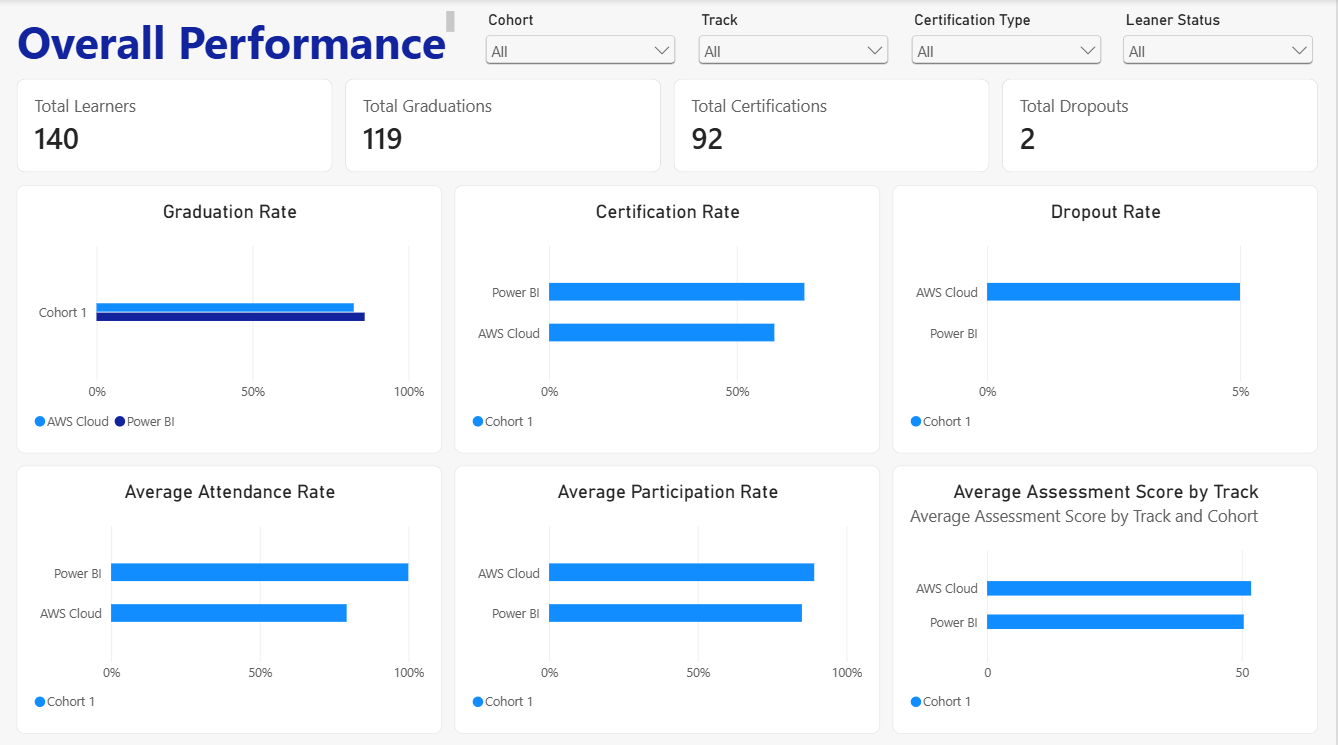

Layout of this report page (visuals, bound fields, positions):
{"tool":"powerbi","page":{"name":"Overall Performance Metrics","canvas":[1280,720],"ordinal":0},"visuals":[{"type":"textbox","box":[16,12,420,48],"z":0},{"type":"textbox","box":[10,290,280,280],"z":1000},{"type":"clusteredBarChart","title":"Graduation Rate","fields":{"Category":["DimLearner.Cohort"],"Series":["DimLearner.Track"],"Y":["DAX_Measures.Graduation Rate"]},"box":[16,178,408,257],"z":2000},{"type":"clusteredBarChart","title":"Certification Rate","fields":{"Category":["DimLearner.Track"],"Series":["DimLearner.Cohort"],"Y":["DAX_Measures.Certification Rate"]},"box":[436,178,408,257],"z":3000},{"type":"clusteredBarChart","title":"Dropout Rate","fields":{"Category":["DimLearner.Track"],"Series":["DimLearner.Cohort"],"Y":["DAX_Measures.Dropout Rate"]},"box":[856,178,408,257],"z":4000},{"type":"clusteredBarChart","title":"Average Attendance Rate","fields":{"Category":["DimLearner.Track"],"Series":["DimLearner.Cohort"],"Y":["DAX_Measures.Average Attendance Rate per Learner"]},"box":[16,447,408,257],"z":5000},{"type":"clusteredBarChart","title":"Average Participation Rate","fields":{"Category":["DimLearner.Track"],"Series":["DimLearner.Cohort"],"Y":["DAX_Measures.Average Participation Rate per Learner"]},"box":[436,447,408,257],"z":6000},{"type":"clusteredBarChart","title":"Average Assessment Score by Track","fields":{"Category":["DimLearner.Track"],"Series":["DimLearner.Cohort"],"Y":["DAX_Measures.Average Assessment Score"]},"box":[856,447,408,257],"z":7000},{"type":"slicer","fields":{"Values":["DimLearner.Cohort"]},"box":[460,12,192,52],"z":8000},{"type":"slicer","fields":{"Values":["DimLearner.Track"]},"box":[664,12,192,52],"z":9000},{"type":"slicer","fields":{"Values":["DimLearner.Certification Type"]},"box":[868,12,192,52],"z":10000},{"type":"cardVisual","fields":{"Data":["DAX_Measures.Total Learners"]},"box":[16,76,303,90],"z":12000},{"type":"cardVisual","fields":{"Data":["DAX_Measures.Total Graduations"]},"box":[331,76,303,90],"z":13000},{"type":"cardVisual","fields":{"Data":["DAX_Measures.Total Certifications"]},"box":[646,76,303,90],"z":14000},{"type":"cardVisual","fields":{"Data":["DAX_Measures.Total Dropouts"]},"box":[961,76,303,90],"z":15000},{"type":"slicer","title":"Learner Status","fields":{"Values":["DimLearner.FactLearnerStatus.Certification Status"]},"box":[1072,12,192,52],"z":15001}]}

Visuals, with their boxes in screenshot pixels (x1, y1, x2, y2), scaled from the page's 1280x720 canvas onto the 1338x745 screenshot:
textbox: region(17, 12, 456, 62)
textbox: region(10, 300, 303, 590)
"Graduation Rate" clusteredBarChart: region(17, 184, 443, 450)
"Certification Rate" clusteredBarChart: region(456, 184, 882, 450)
"Dropout Rate" clusteredBarChart: region(895, 184, 1321, 450)
"Average Attendance Rate" clusteredBarChart: region(17, 463, 443, 728)
"Average Participation Rate" clusteredBarChart: region(456, 463, 882, 728)
"Average Assessment Score by Track" clusteredBarChart: region(895, 463, 1321, 728)
slicer - DimLearner.Cohort: region(481, 12, 682, 66)
slicer - DimLearner.Track: region(694, 12, 895, 66)
slicer - DimLearner.Certification Type: region(907, 12, 1108, 66)
cardVisual - DAX_Measures.Total Learners: region(17, 79, 333, 172)
cardVisual - DAX_Measures.Total Graduations: region(346, 79, 663, 172)
cardVisual - DAX_Measures.Total Certifications: region(675, 79, 992, 172)
cardVisual - DAX_Measures.Total Dropouts: region(1005, 79, 1321, 172)
"Learner Status" slicer: region(1121, 12, 1321, 66)
